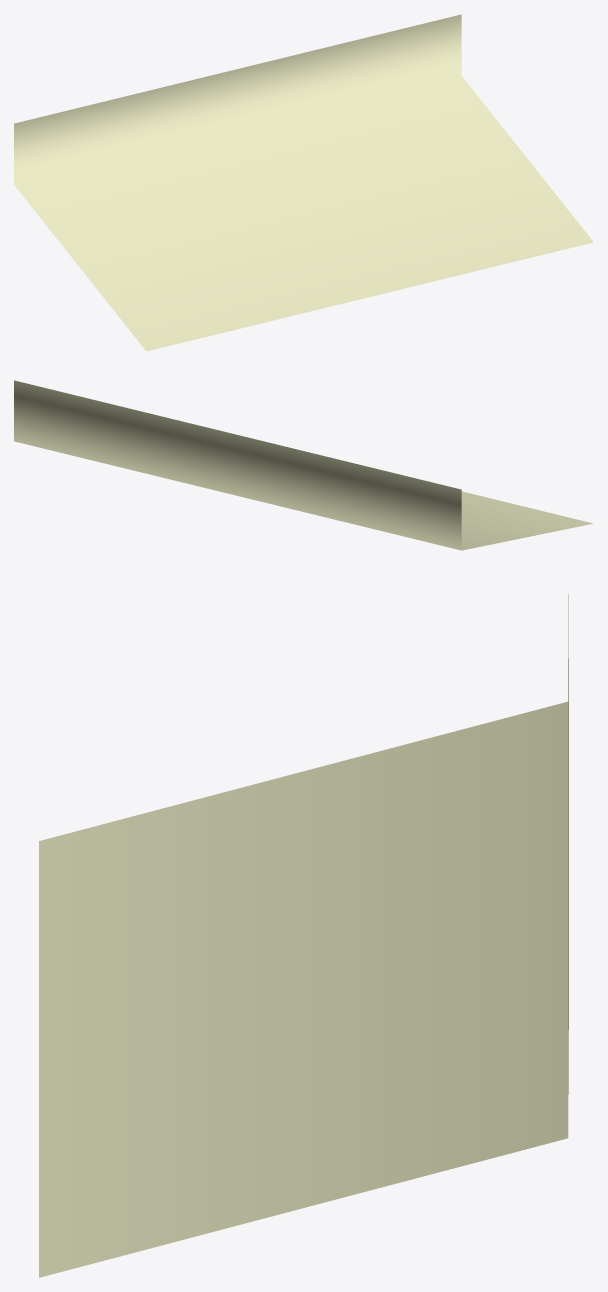
File: Model_BankGrond.fbx
The picture shows the model from 3 angles, top to bottom: view 1: azimuth 30°, elevation 25°; view 2: azimuth 150°, elevation 25°; view 3: azimuth 270°, elevation 25°; orthographic projection. The views are drawn at different scales.
Visible parts, largest first — view 1: Model_Arena_bank_grond; view 2: Model_Arena_bank_grond; view 3: Model_Arena_bank_grond.
Boxes of the visible parts, x1=… form: Model_Arena_bank_grond: x1=14, y1=14, x2=593, y2=351; Model_Arena_bank_grond: x1=14, y1=380, x2=593, y2=550; Model_Arena_bank_grond: x1=39, y1=594, x2=568, y2=1277.
Bounding box in the file's own units: 12.5 × 3.5 × 6.41.
